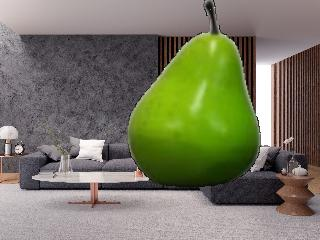pear: (122, 0, 266, 191)
